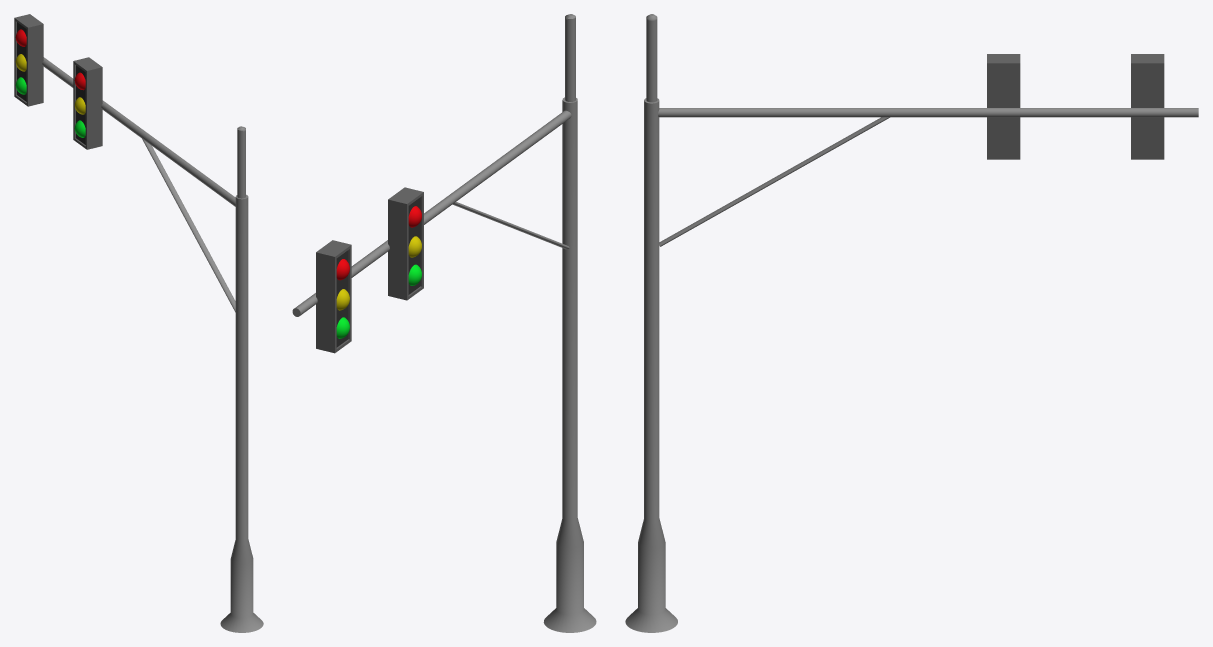
File: TrafficLight.fbx
The picture shows the model from 3 angles, left to right: view 1: azimuth 30°, elevation 25°; view 2: azimuth 150°, elevation 25°; view 3: azimuth 270°, elevation 25°; orthographic projection. The views are drawn at different scales.
Visible parts, largest first — view 1: MainPole, LightBox1, LightBox2, LightPole, SupportPole; view 2: MainPole, LightBox1, LightBox2, LightPole, SupportPole; view 3: MainPole, LightPole, LightBox1, LightBox2, SupportPole.
Part boxes in pixels (x1,y1,x2,y2): MainPole: (220, 126, 263, 632); LightBox1: (14, 14, 43, 106); LightBox2: (73, 57, 102, 149); LightPole: (42, 57, 235, 206); SupportPole: (142, 139, 235, 312); MainPole: (543, 14, 596, 632); LightBox1: (316, 240, 351, 353); LightBox2: (388, 187, 423, 300); LightPole: (292, 110, 571, 316); SupportPole: (452, 202, 569, 249); MainPole: (625, 14, 677, 632); LightPole: (658, 108, 1198, 117); LightBox1: (1131, 54, 1164, 159); LightBox2: (987, 54, 1020, 159); SupportPole: (659, 117, 890, 246).
Size of the model in its own units: 107 by 1260 by 1079.
